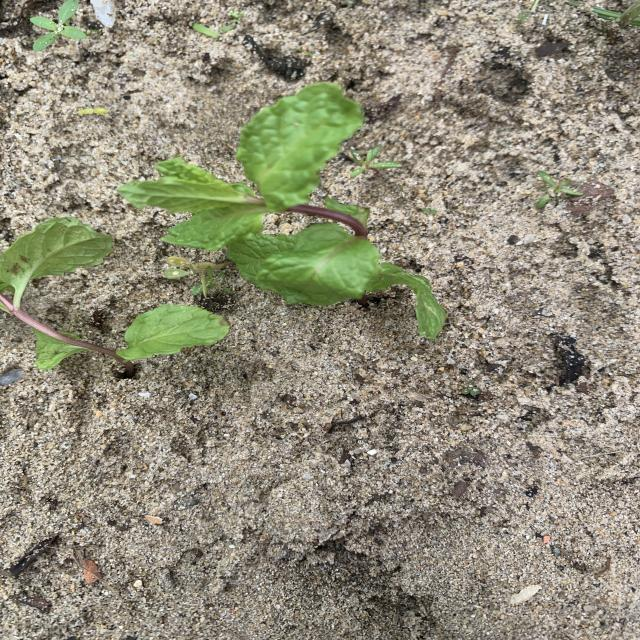crop: (118, 83, 447, 340), (2, 217, 227, 370)
weed: (32, 0, 92, 51), (164, 256, 233, 298), (535, 171, 583, 210), (350, 147, 399, 178), (192, 11, 243, 39), (461, 381, 482, 396), (78, 107, 108, 115), (422, 208, 437, 215)
